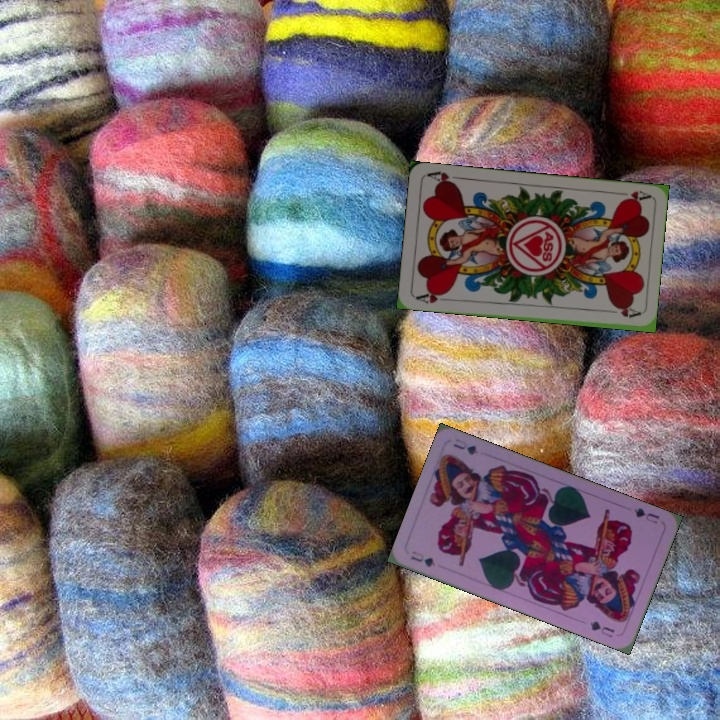GU: (630, 504, 662, 527), (407, 547, 438, 570)
HA: (412, 287, 453, 306), (611, 187, 652, 205)
